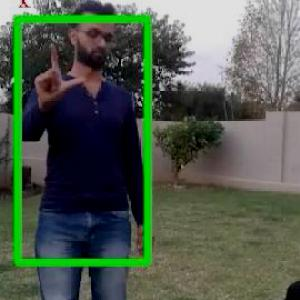land_hand: (23, 30, 88, 108)
